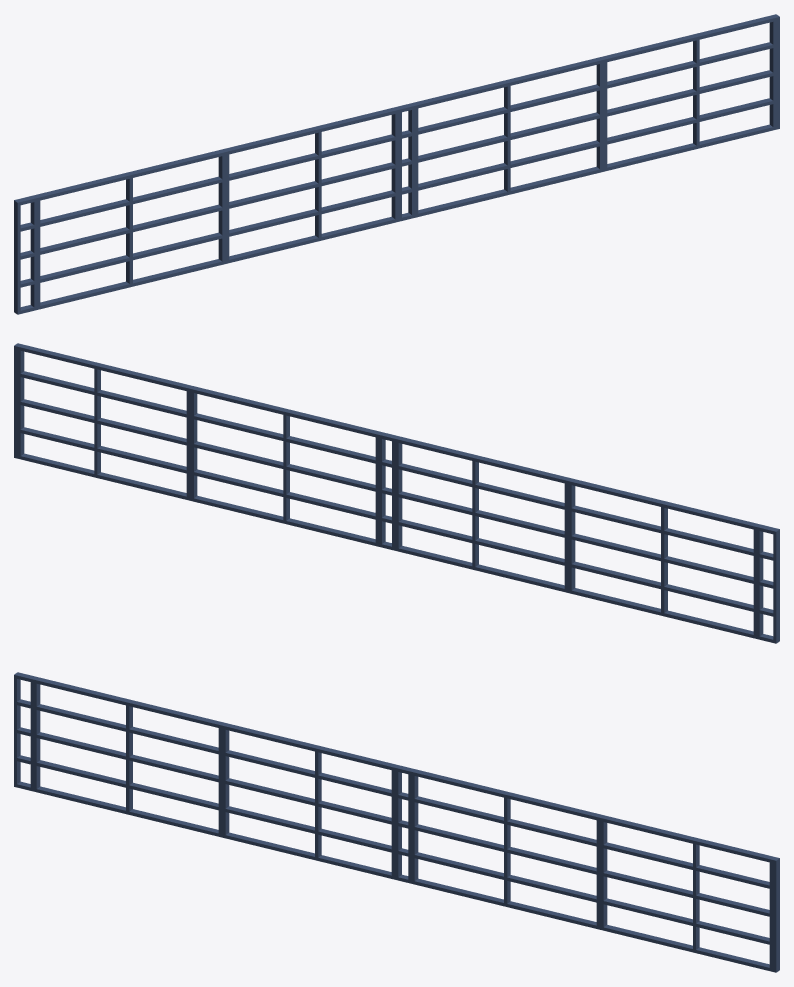
File: SW_corridor__R_lobby_R_Aula_Kautava1_Ikkuna_001.FBX
3 renders of one model, top to bottom at view 1: azimuth 30°, elevation 25°; view 2: azimuth 150°, elevation 25°; view 3: azimuth 330°, elevation 25°, orthographic.
Visible parts, largest first — view 1: SW_corridor__R_lobby_R_Aula_Kautava1_Ikkuna_001; view 2: SW_corridor__R_lobby_R_Aula_Kautava1_Ikkuna_001; view 3: SW_corridor__R_lobby_R_Aula_Kautava1_Ikkuna_001.
Boxes of the visible parts, x1,y1,x2,y2 form: SW_corridor__R_lobby_R_Aula_Kautava1_Ikkuna_001: [14, 14, 779, 314]; SW_corridor__R_lobby_R_Aula_Kautava1_Ikkuna_001: [14, 343, 779, 643]; SW_corridor__R_lobby_R_Aula_Kautava1_Ikkuna_001: [14, 672, 779, 972].
Size of the model in its own units: 1211 by 10 by 170.
